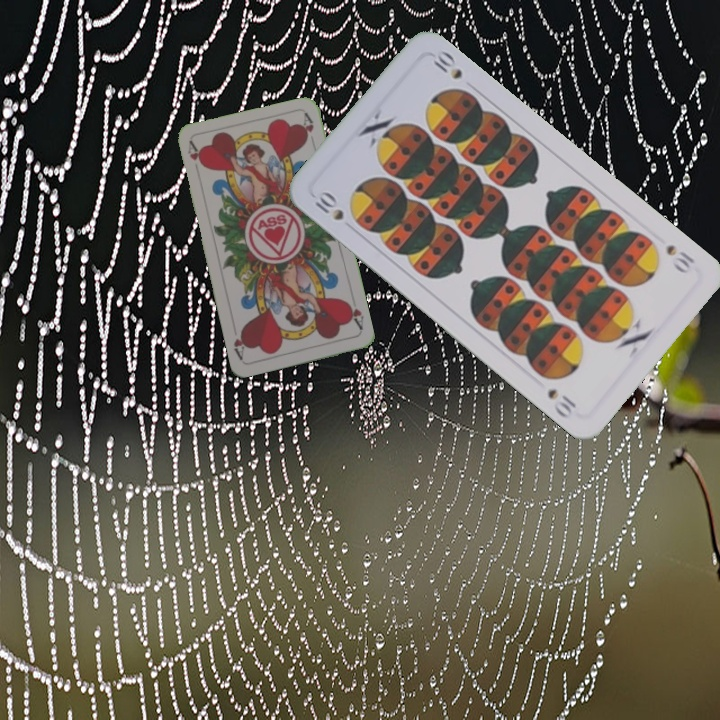HA: (342, 297, 366, 333), (184, 138, 207, 169)
S10: (662, 240, 698, 276), (310, 189, 347, 224)
